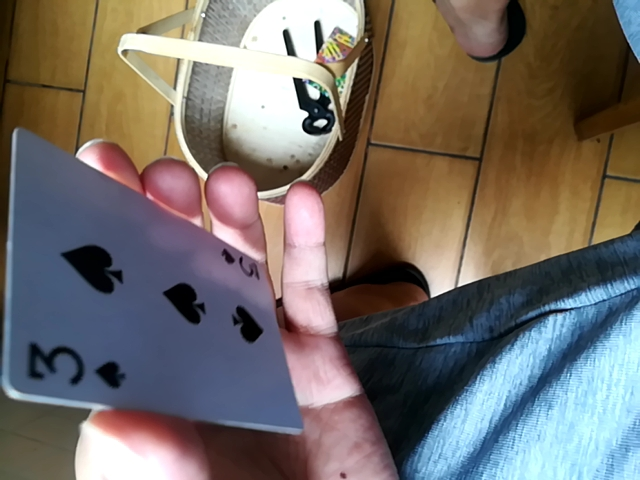ht 3: (3, 128, 295, 439)
